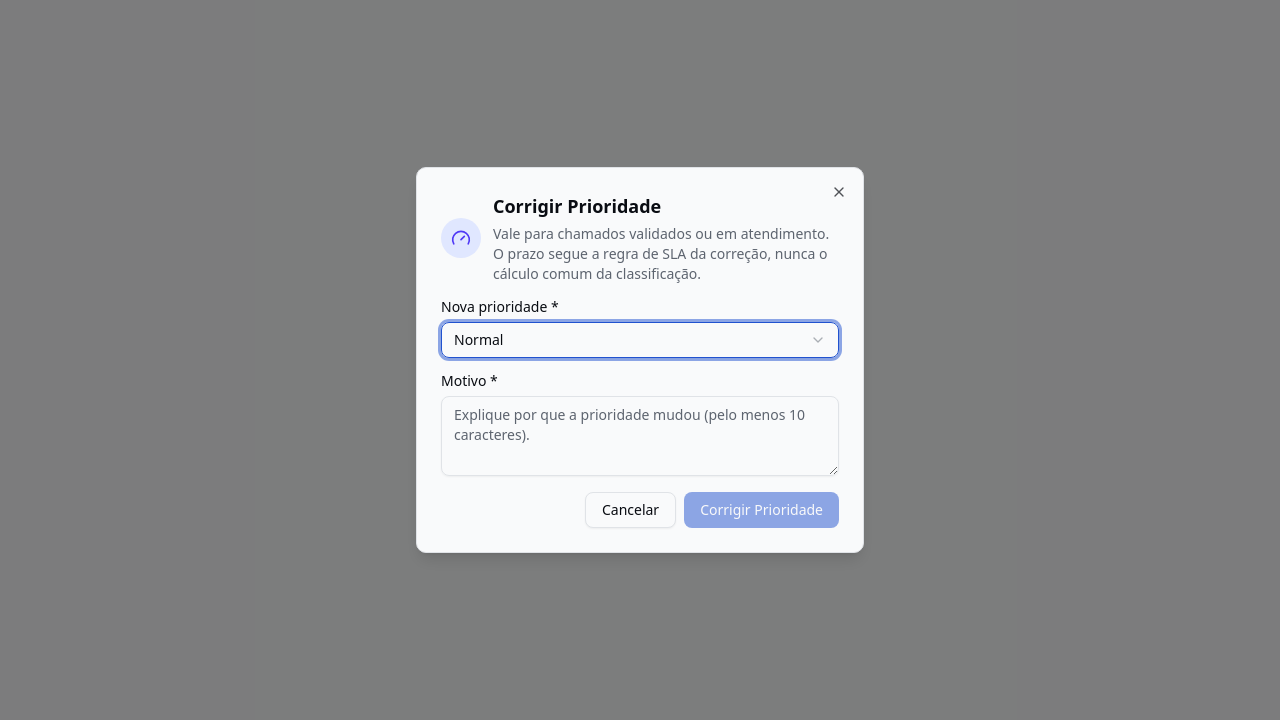
Test: CorrigirPrioridadeDialog › mostra o erro da action e não fecha o diálogo (ex.: janela fechou por atribuição concorrente)
This screenshot has width=1280, height=720.
Click the dropdown at (479,340), box [441,322,839,358]
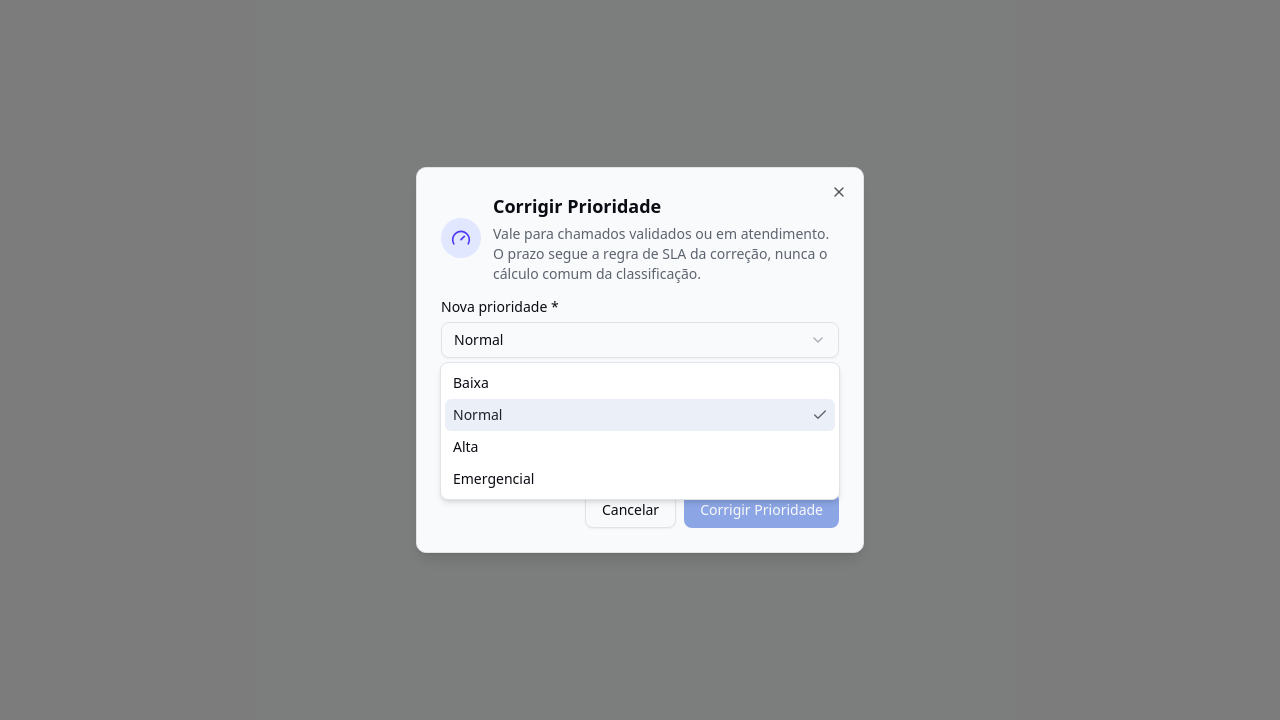
Click the option "Alta" at (466,446), box [453,437,478,456]
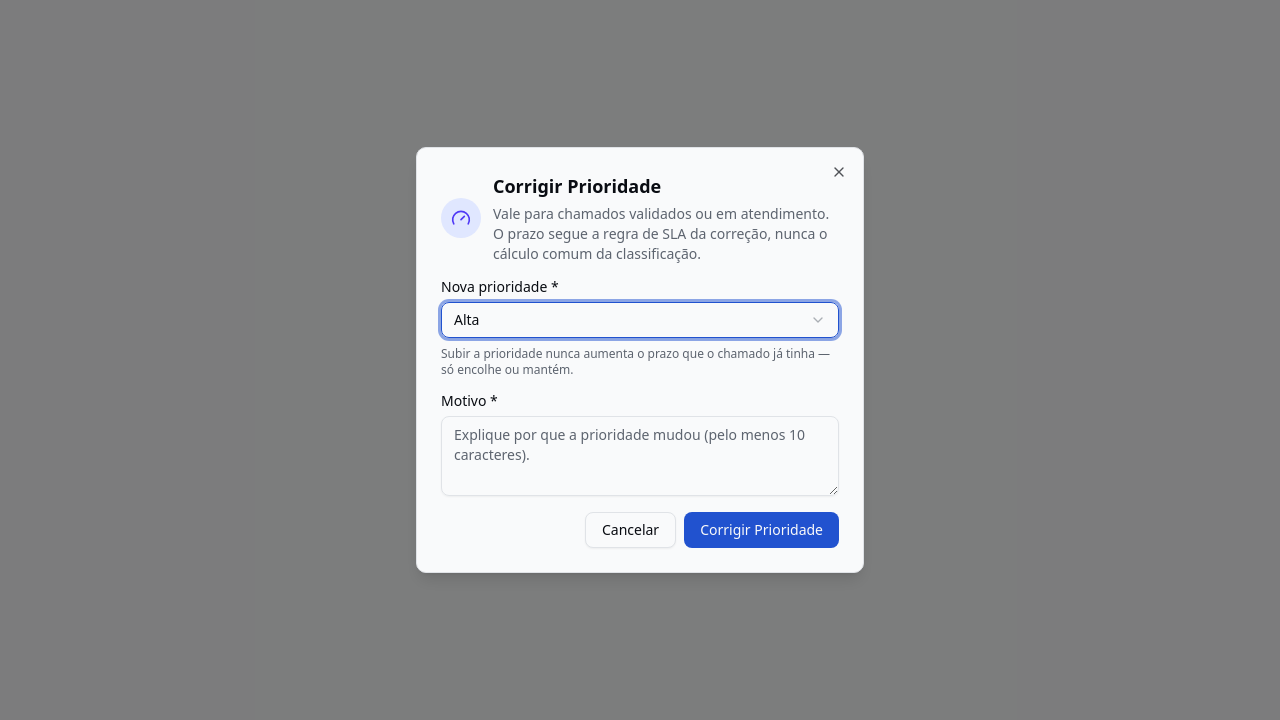
Type "Risco elétrico confirmado pelo técnico." into the text box labelled "Motivo *" at (640,456), box [441,416,839,496]
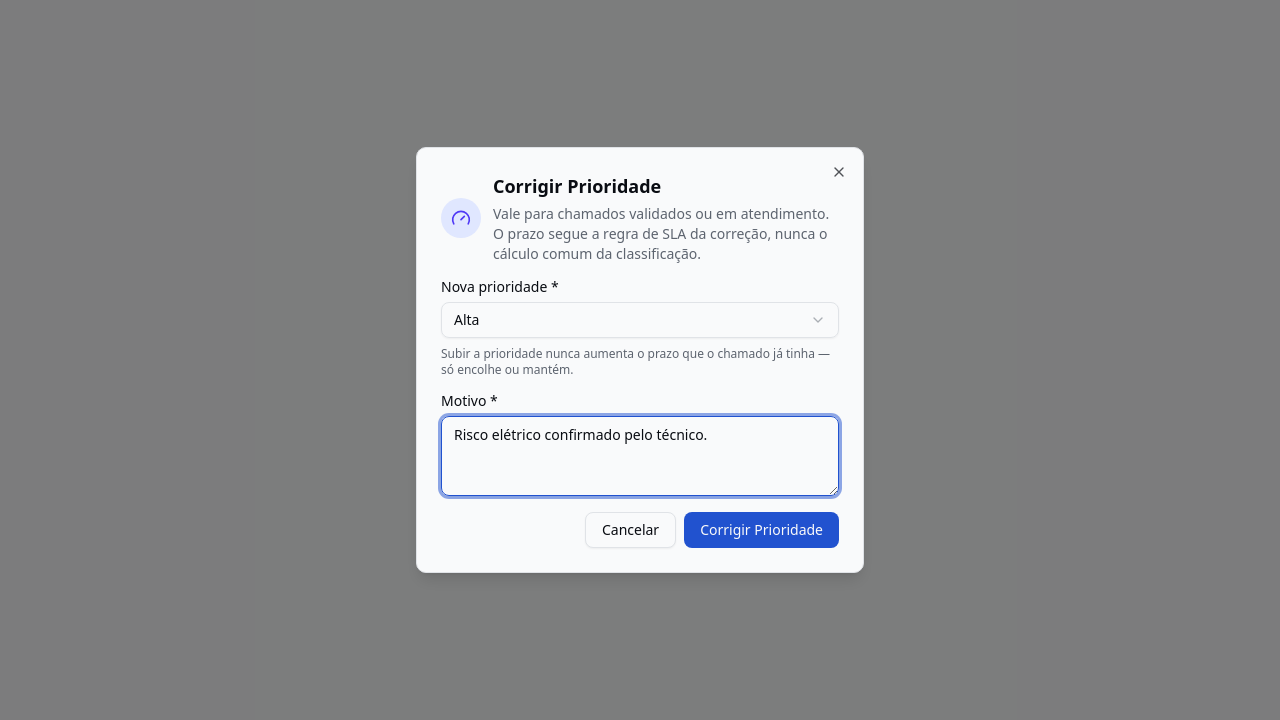
Click the button "Corrigir Prioridade" at (762,530), box [684,512,839,548]
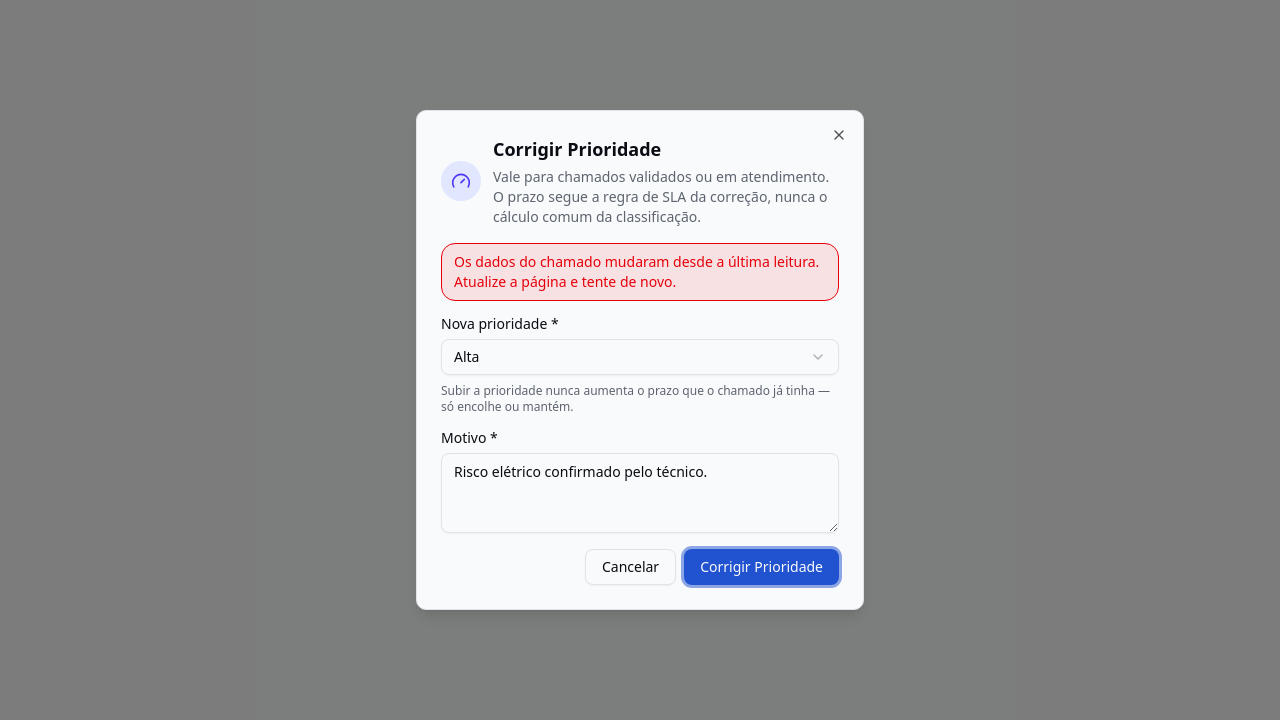
Expected: the text "Os dados do chamado mudaram desde a última leitura. Atualize a página e tente de novo." is shown, [454,252,819,291]
